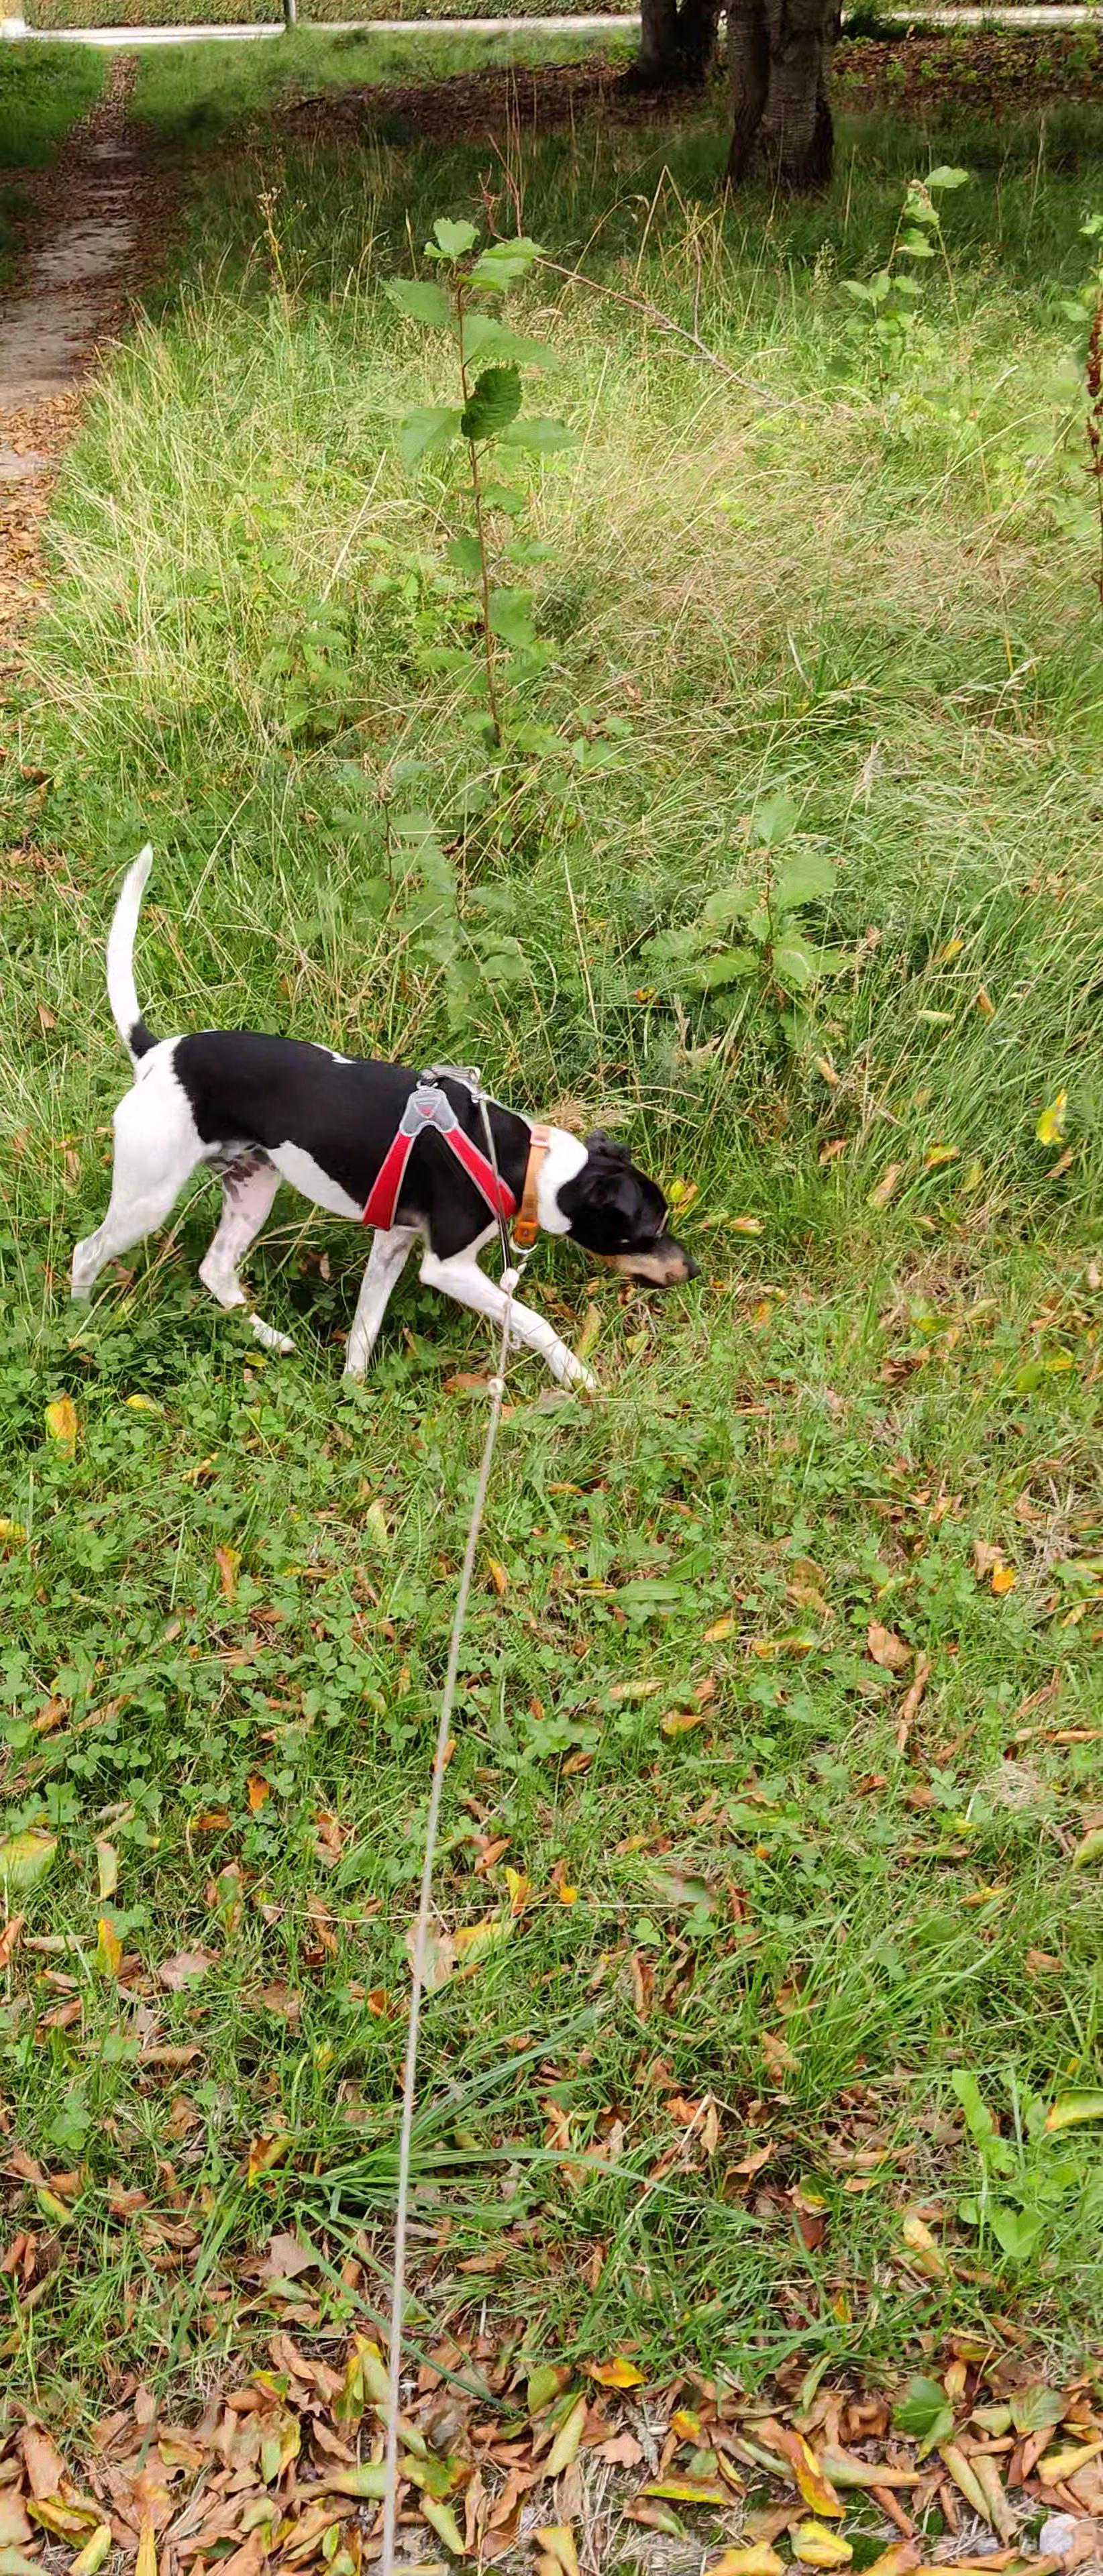Dog: (48, 830, 707, 1410)
